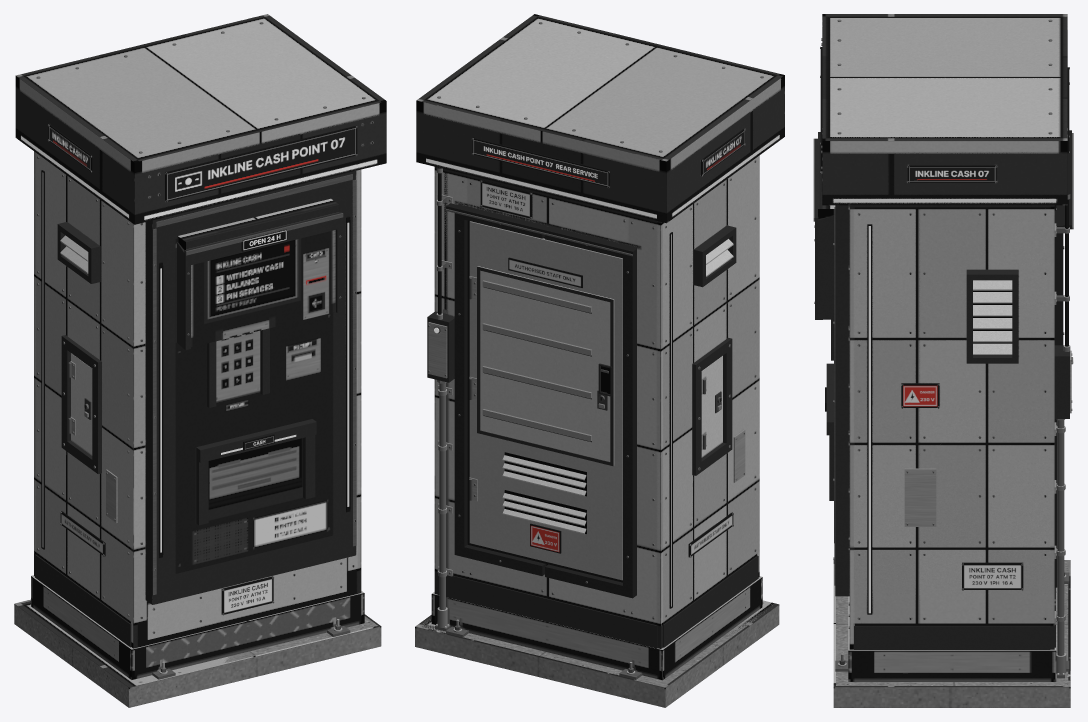
Rendered from atmpod-D3XeNiKU.glb.
3 renders of one model, left to right at view 1: azimuth 30°, elevation 25°; view 2: azimuth 150°, elevation 25°; view 3: azimuth 270°, elevation 25°, orthographic. The views are drawn at different scales.
Parts seen in each view (by area): view 1: farBaked, body, glow; view 2: farBaked, body, glow; view 3: body, farBaked, glow.
Part boxes in pixels (x1,y1,x2,y2): farBaked: (14, 14, 386, 707); body: (14, 20, 386, 707); glow: (21, 126, 377, 552); farBaked: (415, 14, 784, 707); body: (415, 21, 784, 707); glow: (426, 131, 779, 606); body: (813, 18, 1073, 707); farBaked: (818, 14, 1070, 707); glow: (833, 167, 1073, 613).
Bounding box in the file's own units: 1.06 × 2.17 × 0.9015.
Materials: 3 (3 with a texture image).
